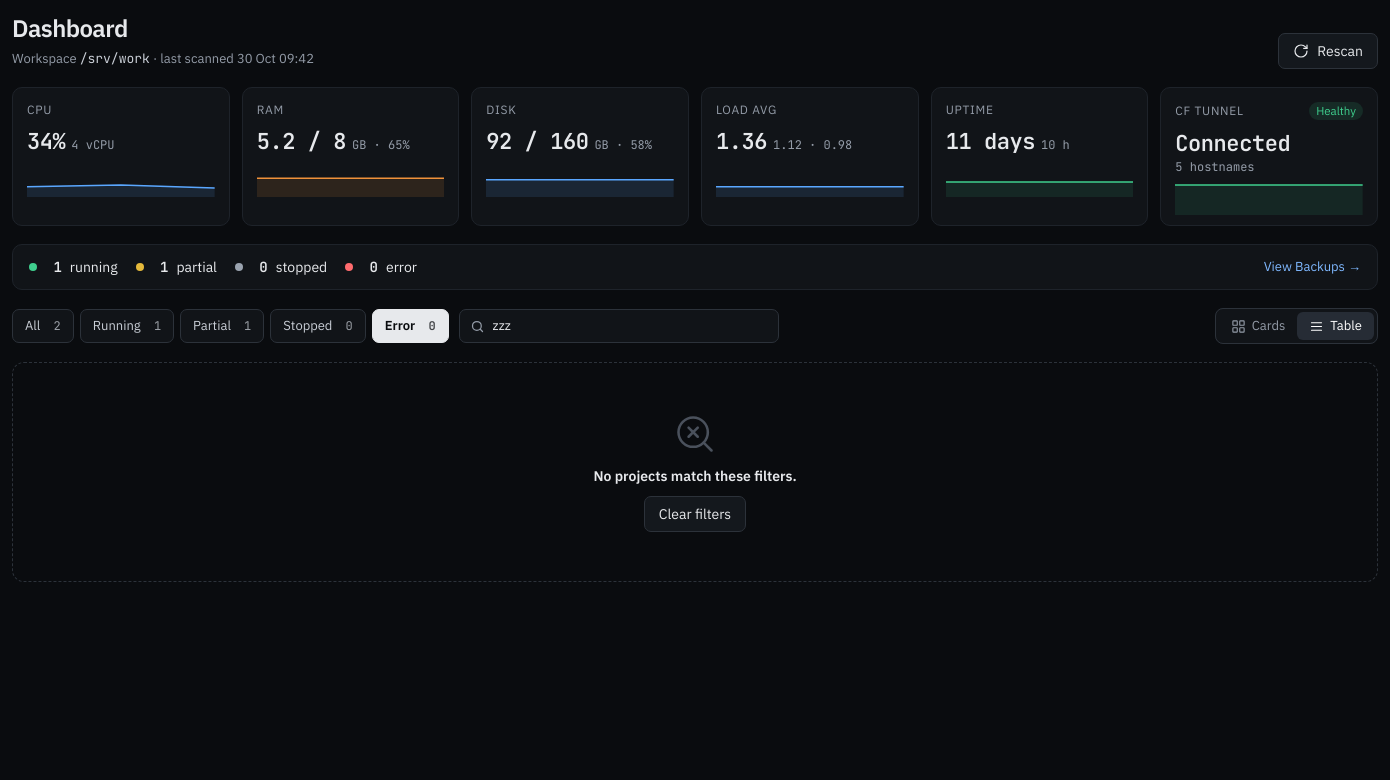
it: DashboardPage › filters and views in the URL › says nothing matches, and Clear filters resets status and search but not the view
expect the heading "No projects match these filters." is shown: met, box [593,466,797,486]
expect the search field named "Search projects by name" holds "zzz": met, box [493,317,768,336]
Click the button "Clear filters": (695, 514) [644,496,746,532]
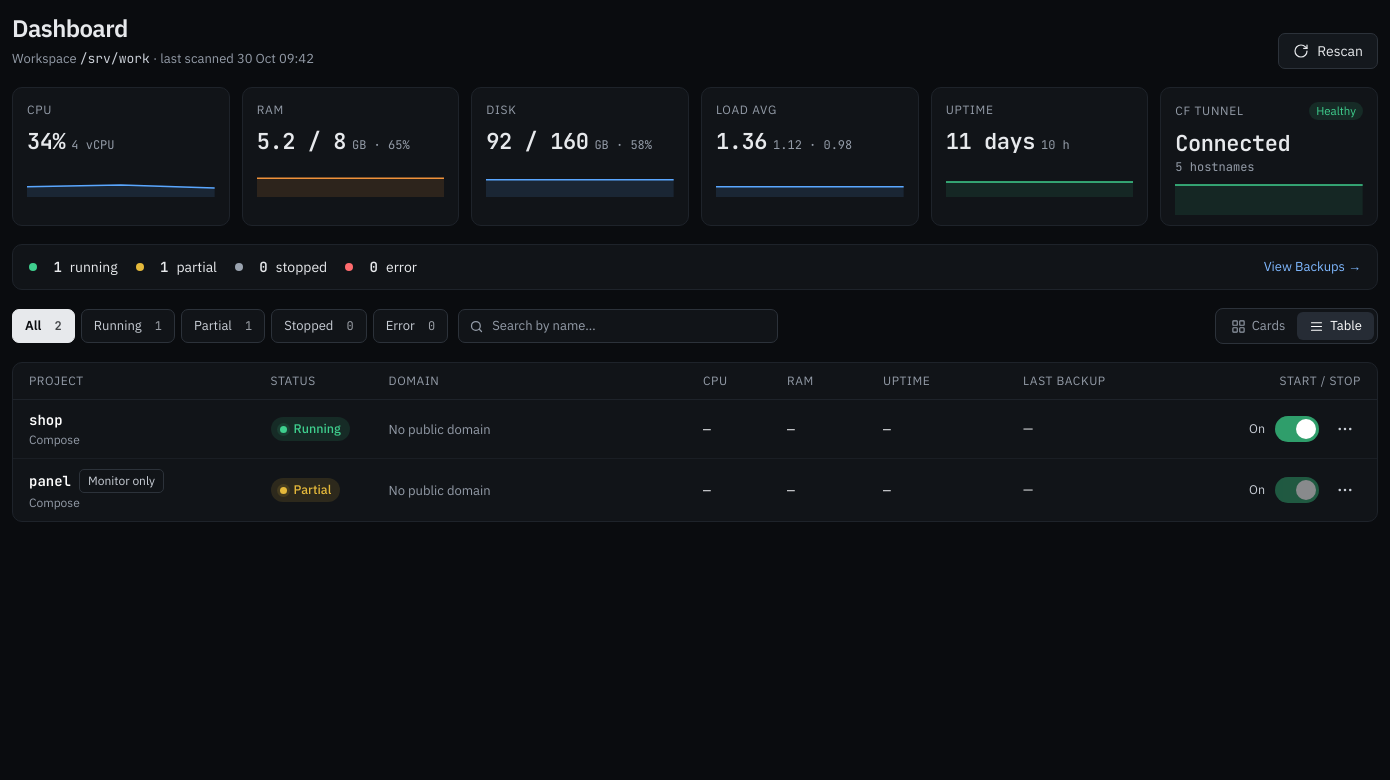
expect the heading "No projects match these filters." is gone: met
expect the row "shop Compose Running No public domain — — — — On" is shown: met, box [13,400,1377,459]
expect the row "panel" is shown: met, box [13,459,1377,521]
